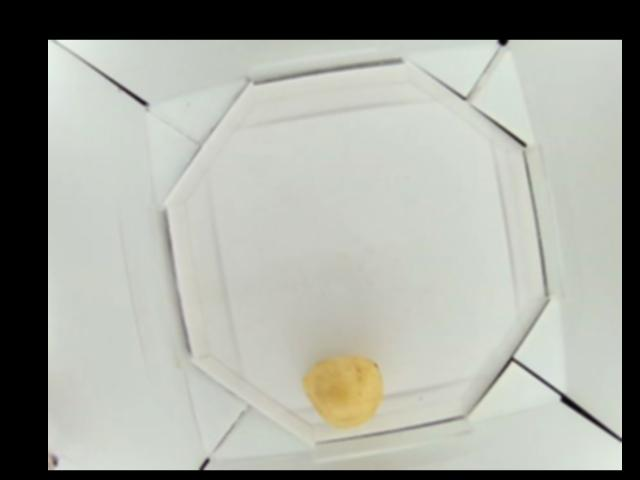Potato: (305, 353, 387, 429)
